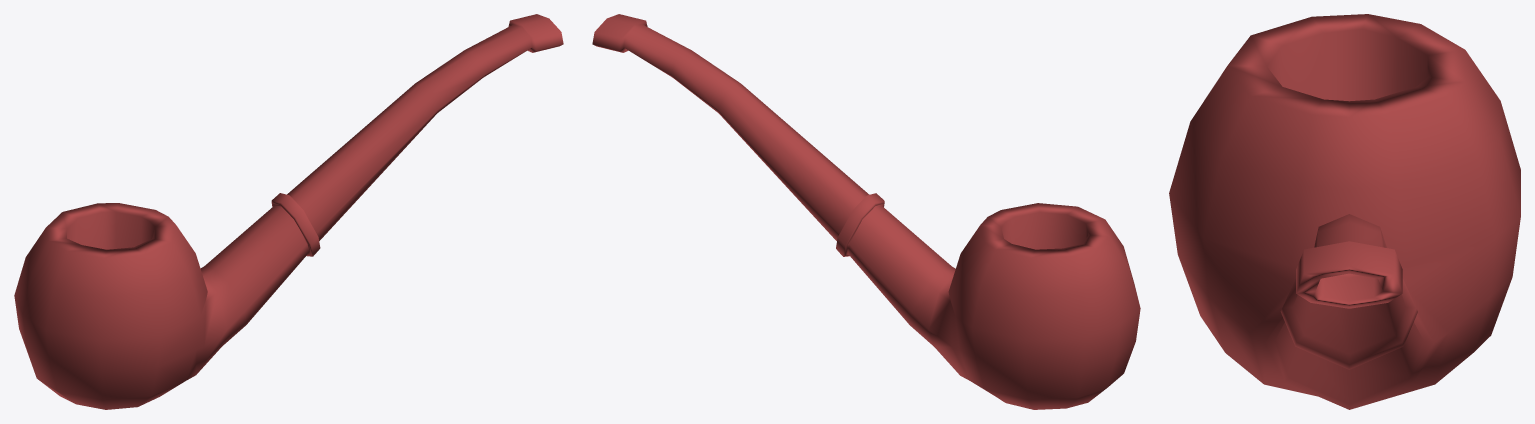
Rendered from Pipe.fbx.
3 views of the same model, side by side, from view 1: azimuth 30°, elevation 25°; view 2: azimuth 150°, elevation 25°; view 3: azimuth 270°, elevation 25° (orthographic). The views are drawn at different scales.
Visible parts, largest first — view 1: polySurface3; view 2: polySurface3; view 3: polySurface3.
Boxes of the visible parts, x1,y1,x2,y2 form: polySurface3: (14, 14, 563, 409); polySurface3: (592, 14, 1140, 409); polySurface3: (1169, 14, 1520, 409).
Bounding box in the file's own units: 39.88 × 19.87 × 12.68.
